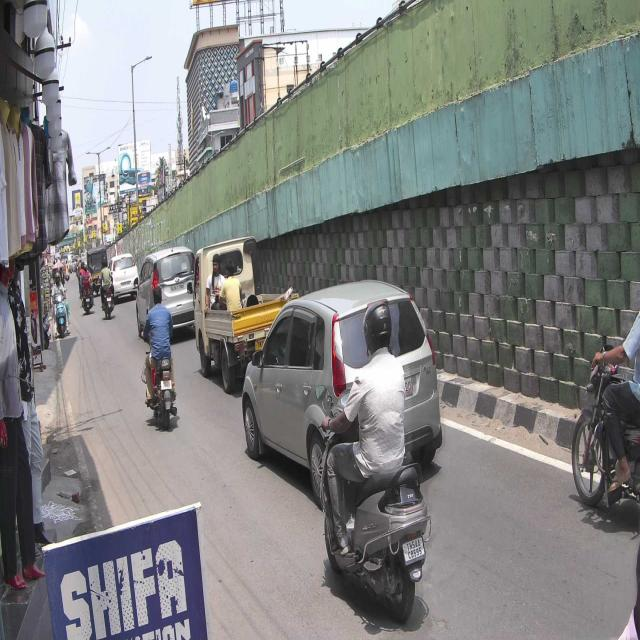single_rider: (316, 300, 434, 624)
